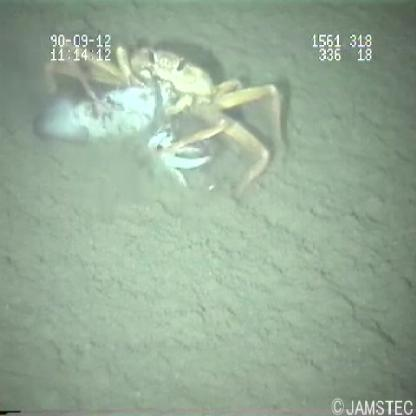Bio: (31, 39, 298, 207)
